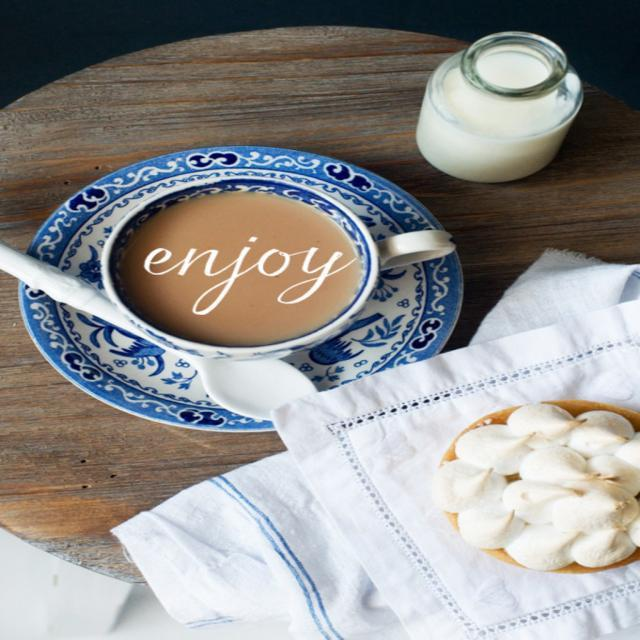Milk: (435, 25, 587, 179)
